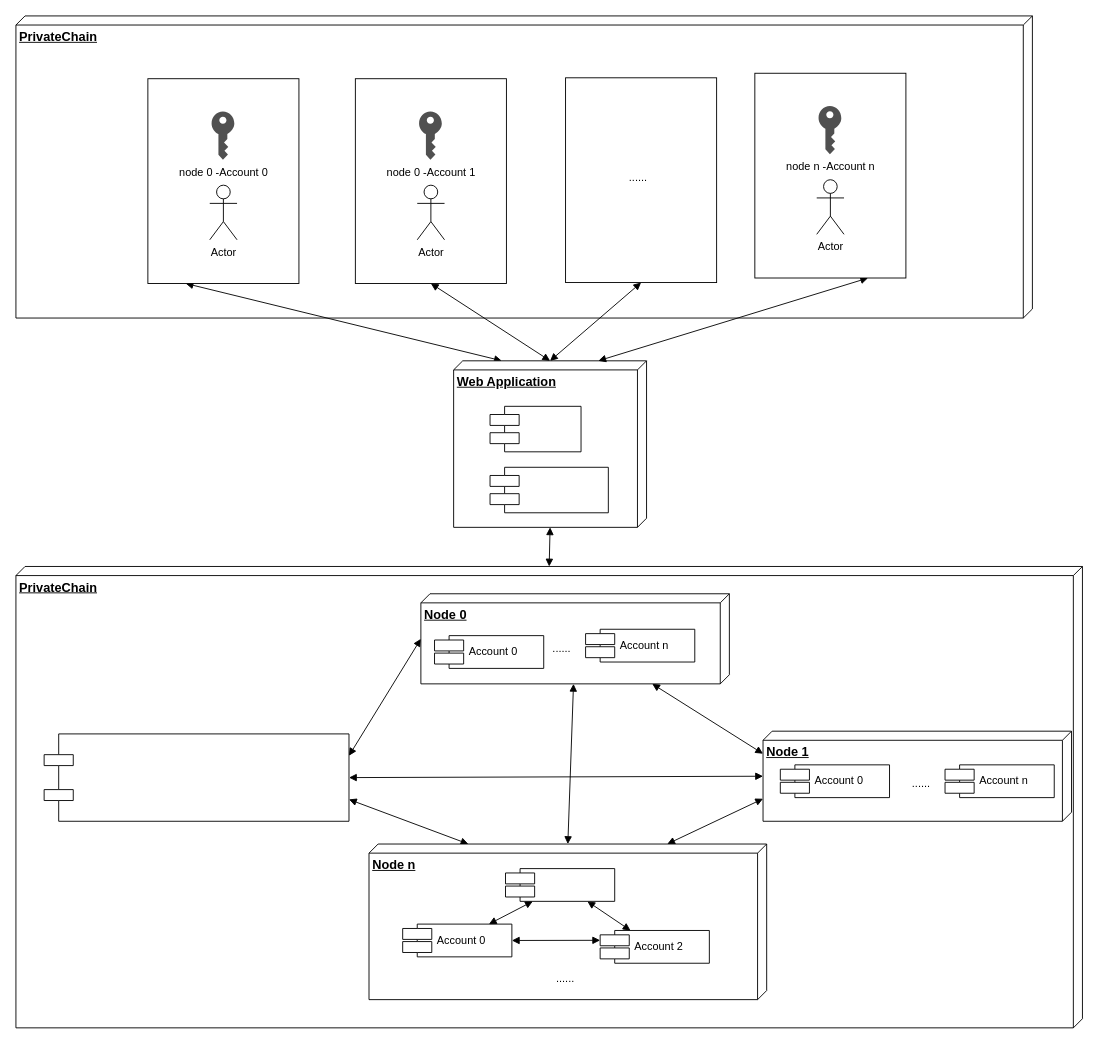
Some shapes in this 1098 by 1044 pixel diagram are drawn without their labels. Here are the shapes that lost their labels. From the top down, the centre of each, then its label:
At [535,428]: "GUI".
At [548,489]: "Post/Get".
At [196,777]: "Contract(Dealer)".
At [560,884]: "Account 1".
